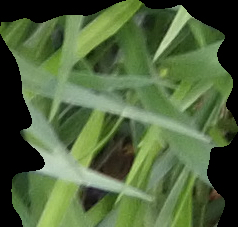grass: (1, 1, 236, 226)
